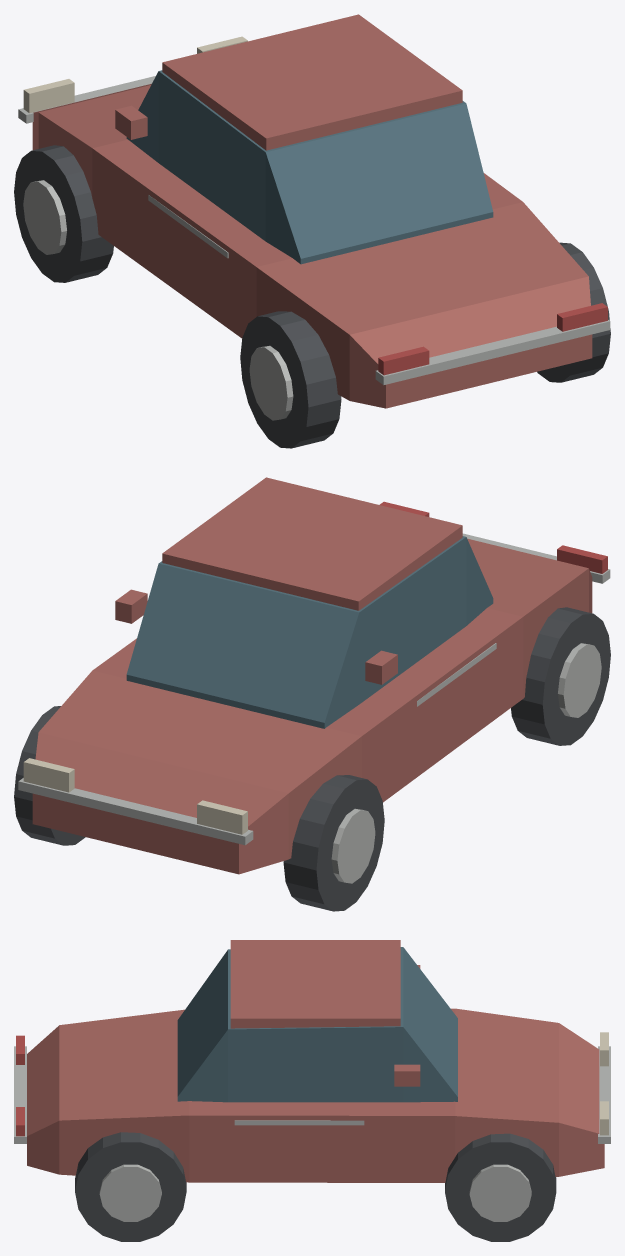
The model's file is sedan.glb.
The picture shows the model from 3 angles, top to bottom: view 1: azimuth 30°, elevation 25°; view 2: azimuth 150°, elevation 25°; view 3: azimuth 270°, elevation 25°; orthographic projection. The views are drawn at different scales.
Parts seen in each view (by area): view 1: sedan_0, sedan_1, sedan_2, sedan_7, sedan_5, sedan_4, sedan_8, sedan_6, sedan_15, sedan_9, sedan_10, sedan_18 (+2 smaller); view 2: sedan_0, sedan_1, sedan_2, sedan_5, sedan_7, sedan_3, sedan_6, sedan_8, sedan_13, sedan_17, sedan_9, sedan_10 (+3 smaller); view 3: sedan_0, sedan_1, sedan_2, sedan_15, sedan_13, sedan_14, sedan_16, sedan_4, sedan_20, sedan_3, sedan_19.
Boxes of the visible parts, x1,y1,x2,y2 form: sedan_0: (32, 83, 592, 408); sedan_1: (126, 70, 493, 264); sedan_2: (162, 14, 462, 150); sedan_7: (240, 311, 341, 448); sedan_5: (14, 145, 113, 282); sedan_4: (375, 320, 610, 385); sedan_8: (249, 345, 293, 420); sedan_6: (23, 180, 66, 254); sedan_15: (537, 242, 610, 382); sedan_9: (23, 79, 74, 113); sedan_10: (378, 346, 429, 375); sedan_18: (557, 303, 607, 331); sedan_0: (32, 538, 592, 874); sedan_1: (126, 536, 493, 728); sedan_2: (162, 477, 462, 610); sedan_5: (283, 775, 384, 911); sedan_7: (511, 607, 610, 745); sedan_3: (18, 778, 253, 845); sedan_6: (331, 808, 375, 883); sedan_8: (558, 643, 601, 717); sedan_13: (14, 706, 85, 845); sedan_17: (23, 758, 74, 792); sedan_9: (197, 800, 247, 834); sedan_10: (557, 545, 607, 573); sedan_0: (27, 1008, 604, 1182); sedan_1: (177, 947, 457, 1102); sedan_2: (230, 940, 400, 1028); sedan_15: (75, 1132, 186, 1241); sedan_13: (445, 1133, 556, 1241); sedan_14: (469, 1164, 531, 1221); sedan_16: (99, 1164, 161, 1221); sedan_4: (14, 1046, 26, 1143); sedan_20: (234, 1120, 364, 1125); sedan_3: (598, 1046, 610, 1143); sedan_19: (394, 1064, 420, 1086).
Size of the model in its own units: 2.29 by 1.72 by 4.6.
